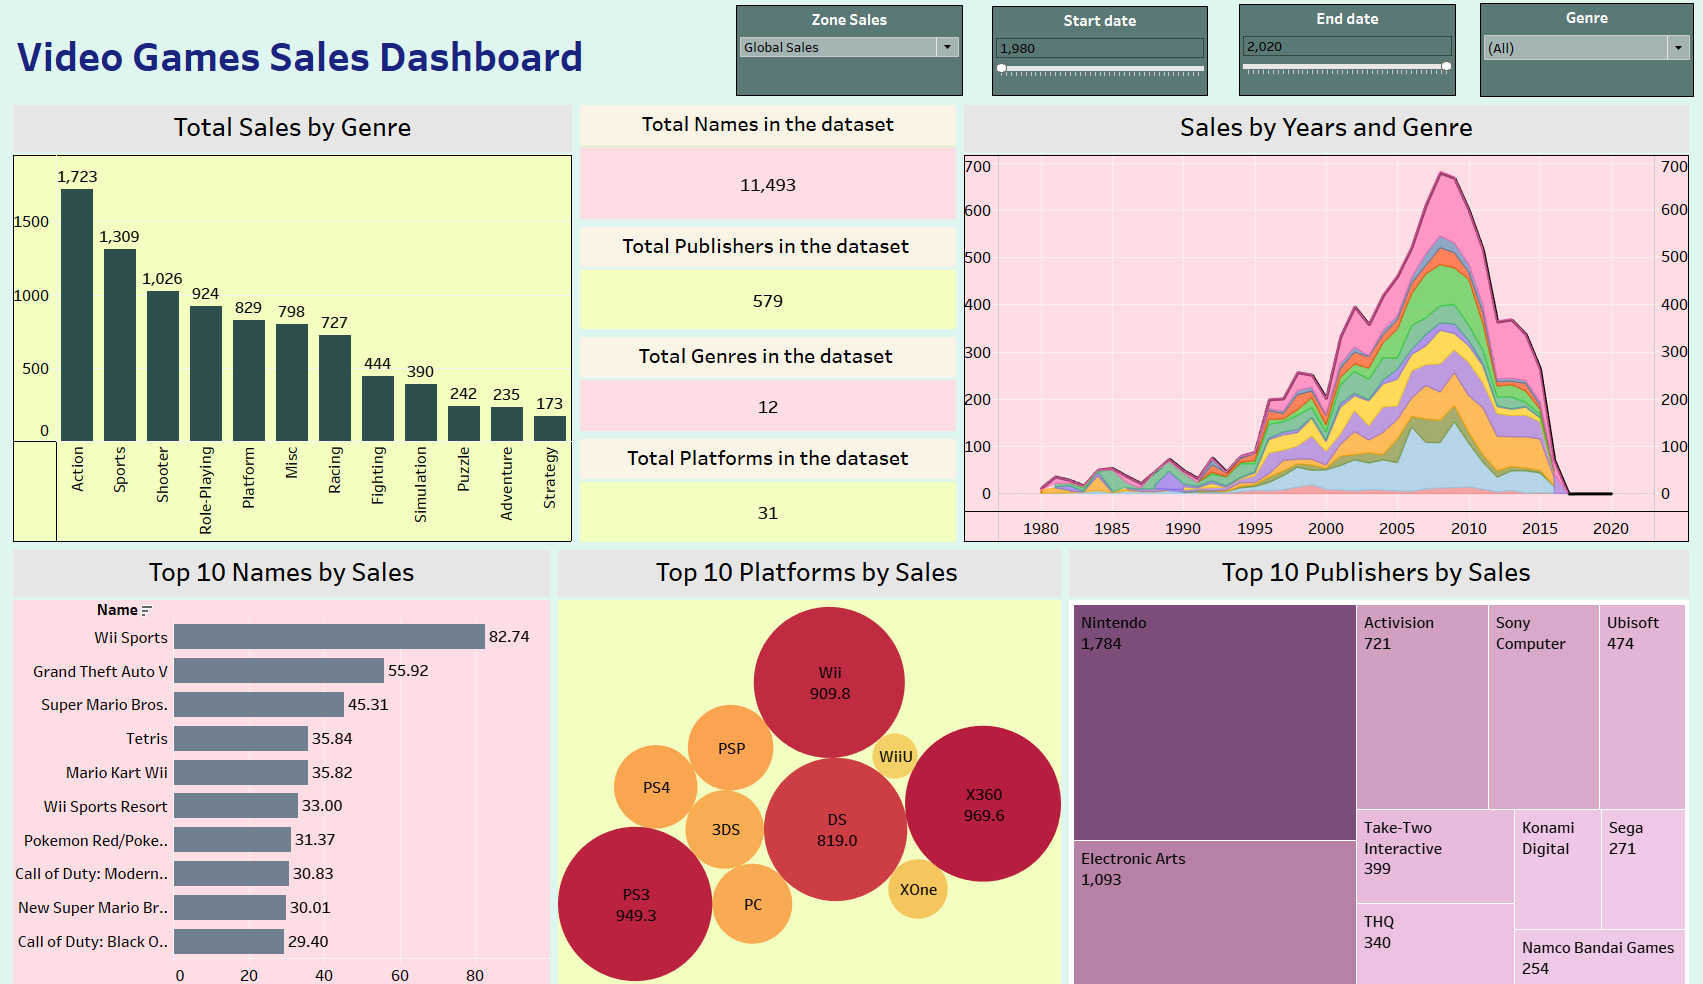

This screenshot's page, from the dashboard's own definition file:
{"tool":"tableau","page":{"name":"Dashboard 1","canvas":[1700,1000],"ordinal":0},"visuals":[{"type":"filter","title":"Sales by Years and Genre","param":"[federated.18uy6020tgaqpn1fyeu9d1xanf5n].[none:Genre:nk]","box":[1479,3,214,94]},{"type":"parameter","param":"[Parameters].[Parameter 3]","box":[1238,4,217,92]},{"type":"parameter","param":"[Parameters].[Parameter 1]","box":[735,5,227,91]},{"type":"parameter","param":"[Parameters].[Parameter 2]","box":[991,6,216,90]},{"type":"title","box":[8,8,1684,93]},{"type":"worksheet","title":"Total Sales by Genre","mark":"Automatic","rows":["Calculation_1908400344195108864"],"cols":["Genre"],"box":[8,101,566.8,445.5]},{"type":"worksheet","title":"Total Names in the dataset","mark":"Automatic","box":[574.8,101,384.5,122]},{"type":"worksheet","title":"Sales by Years and Genre","mark":"Automatic","rows":["Calculation_1908400344195108864","Calculation_1908400344195108864"],"cols":["Year"],"box":[959.3,101,732.7,445.5]},{"type":"worksheet","title":"Total Publishers in the dataset ","mark":"Automatic","box":[574.8,223,384.5,110]},{"type":"worksheet","title":"Total Genres in the dataset ","mark":"Automatic","box":[574.8,333,384.5,102]},{"type":"worksheet","title":"Total Platforms in the dataset","mark":"Automatic","box":[574.8,435,384.5,111.5]},{"type":"worksheet","title":"Top 10 Names by Sales","mark":"Automatic","rows":["Name"],"cols":["Calculation_1908400344195108864"],"box":[8,546.5,545.4,445.5]},{"type":"worksheet","title":"Top 10 Platforms by Sales ","mark":"Circle","box":[553.4,546.5,510.5,445.5]},{"type":"worksheet","title":"Top 10 Publishers by Sales ","mark":"Automatic","box":[1063.9,546.5,628,445.5]}]}

Visuals, with their boxes in screenshot pixels (x1, y1, x2, y2), scaled from the page's 1700x1000 canvas onto the 1703x984 screenshot:
"Sales by Years and Genre" filter: left=1482, top=3, right=1696, bottom=95
parameter: left=1240, top=4, right=1458, bottom=94
parameter: left=736, top=5, right=964, bottom=94
parameter: left=993, top=6, right=1209, bottom=94
title: left=8, top=8, right=1695, bottom=99
"Total Sales by Genre" worksheet: left=8, top=99, right=576, bottom=538
"Total Names in the dataset" worksheet: left=576, top=99, right=961, bottom=219
"Sales by Years and Genre" worksheet: left=961, top=99, right=1695, bottom=538
"Total Publishers in the dataset " worksheet: left=576, top=219, right=961, bottom=328
"Total Genres in the dataset " worksheet: left=576, top=328, right=961, bottom=428
"Total Platforms in the dataset" worksheet: left=576, top=428, right=961, bottom=538
"Top 10 Names by Sales" worksheet: left=8, top=538, right=554, bottom=976
"Top 10 Platforms by Sales " worksheet (Circle marks): left=554, top=538, right=1066, bottom=976
"Top 10 Publishers by Sales " worksheet: left=1066, top=538, right=1695, bottom=976
